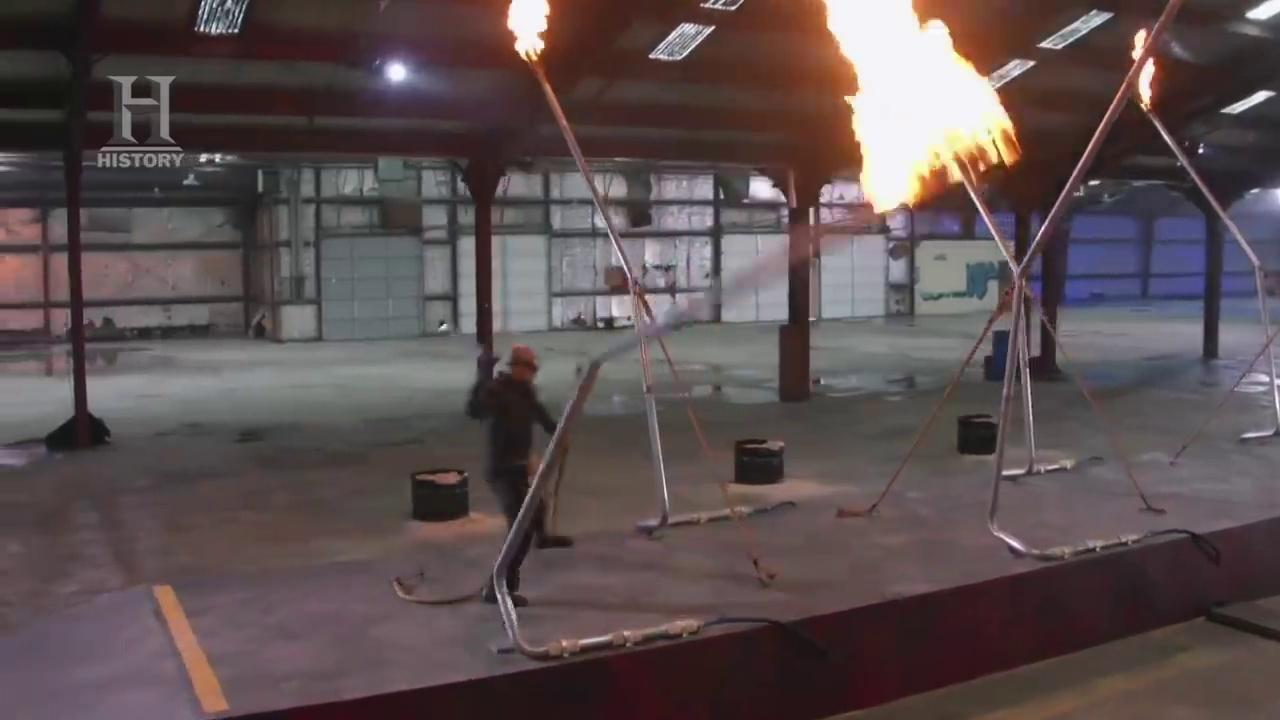Fire: (816, 8, 1040, 217), (502, 10, 564, 65), (1129, 26, 1164, 106)
